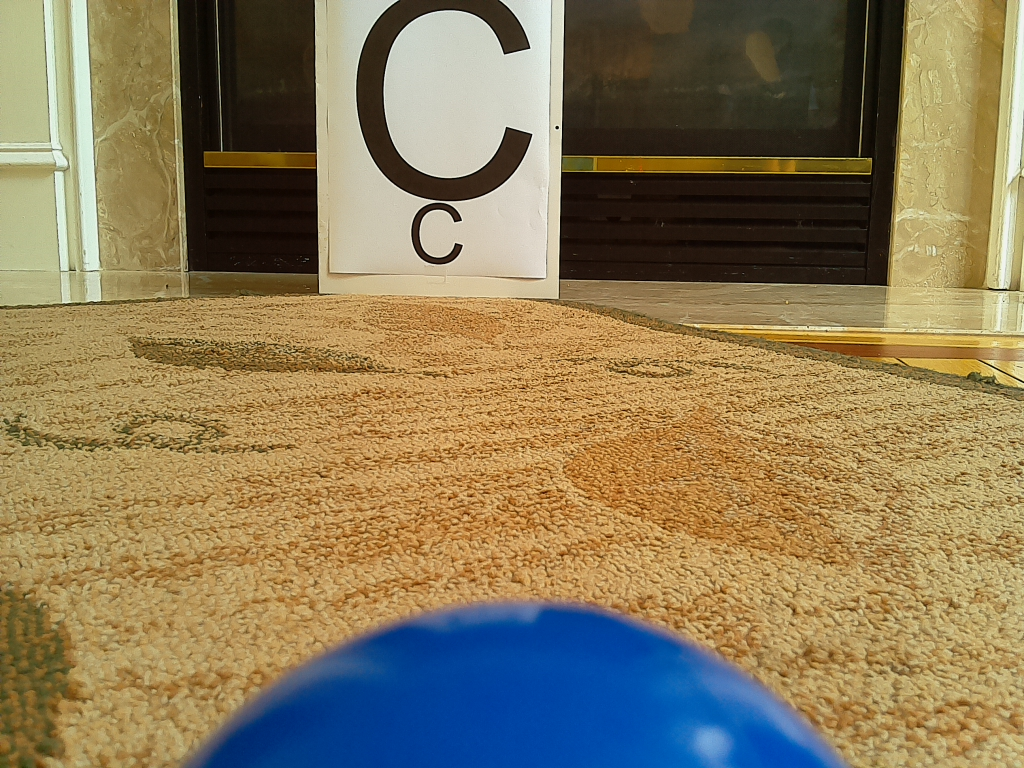letter: (358, 1, 532, 203)
